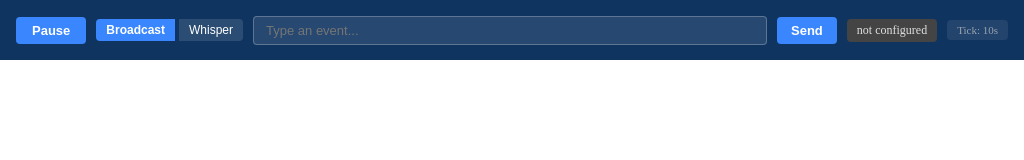
Test: BottomBar event injection UI › Test 9: whisper target dropdown appears when Whisper mode is selected
This screenshot has width=1024, height=160.
Click Whisper button
Step 1. Click the button "Whisper" → coordinates (211, 30), box top-left (179, 19), bottom-right (243, 41)
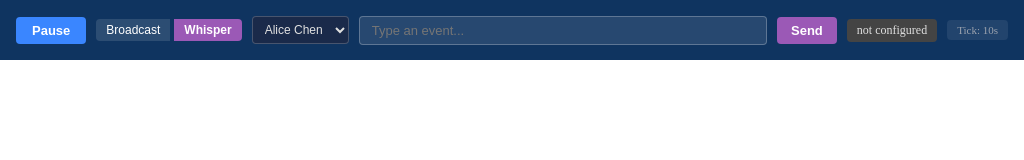
Check: the dropdown with test id "whisper-target" is shown, box top-left (252, 16), bottom-right (349, 44)
